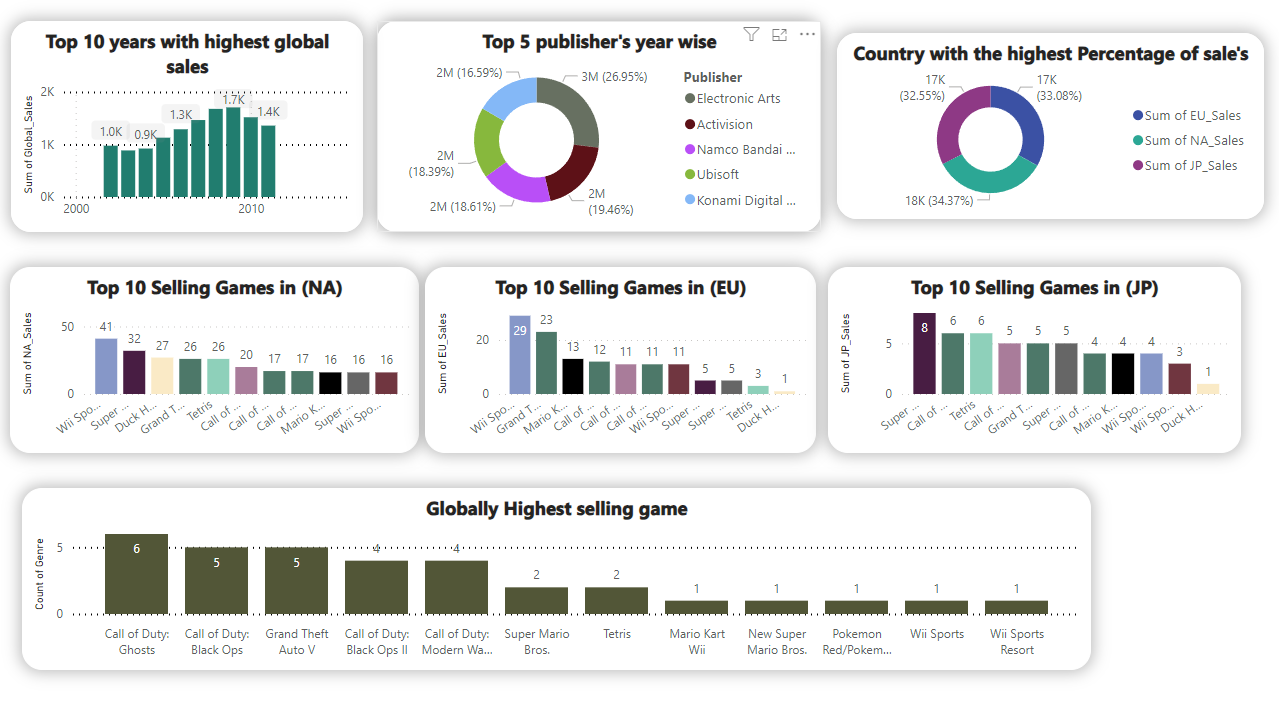

Layout of this report page (visuals, bound fields, positions):
{"tool":"powerbi","page":{"name":"Visualization","canvas":[1280,720],"ordinal":6},"visuals":[{"type":"columnChart","title":"Top 10 years with highest global sales","fields":{"Category":["vgsales.Year"],"Y":["Sum(vgsales.Global_Sales)"]},"box":[10.7,20.6,351.9,211.3],"z":0},{"type":"donutChart","title":"Top 5 publisher''s year wise","fields":{"Category":["vgsales.Publisher"],"Y":["Sum(vgsales.Year)"]},"box":[376.7,20.7,444.5,211.5],"z":1000},{"type":"columnChart","title":"Top 10 Selling Games in (NA)","fields":{"Category":["vgsales.Name"],"Y":["Sum(vgsales.NA_Sales)"]},"box":[10.4,266.5,408.6,186.7],"z":2000},{"type":"columnChart","title":"Top 10 Selling Games in (EU)","fields":{"Category":["vgsales.Name"],"Y":["Sum(vgsales.EU_Sales)"]},"box":[424.5,266.5,391,186.7],"z":3000},{"type":"columnChart","title":"Globally Highest selling game","fields":{"Category":["vgsales.Name"],"Y":["CountNonNull(vgsales.Genre)"]},"box":[21.9,487.9,1069.3,182.1],"z":5000},{"type":"columnChart","title":"Top 10 Selling Games in (JP)","fields":{"Category":["vgsales.Name"],"Y":["Sum(vgsales.JP_Sales)"]},"box":[827.9,266.9,413.5,186.1],"z":5001},{"type":"donutChart","title":"Country with the highest Percentage of sale''s","fields":{"Y":["Sum(vgsales.EU_Sales)","Sum(vgsales.NA_Sales)","Sum(vgsales.JP_Sales)"]},"box":[837,33,427,186],"z":5002}]}

Visuals, with their boxes in screenshot pixels (x1, y1, x2, y2), scaled from the page's 1280x720 canvas onto the 1279x719 screenshot:
"Top 10 years with highest global sales" columnChart: 11:21:362:232
"Top 5 publisher''s year wise" donutChart: 376:21:821:232
"Top 10 Selling Games in (NA)" columnChart: 10:266:419:453
"Top 10 Selling Games in (EU)" columnChart: 424:266:815:453
"Globally Highest selling game" columnChart: 22:487:1090:669
"Top 10 Selling Games in (JP)" columnChart: 827:267:1240:452
"Country with the highest Percentage of sale''s" donutChart: 836:33:1263:219
